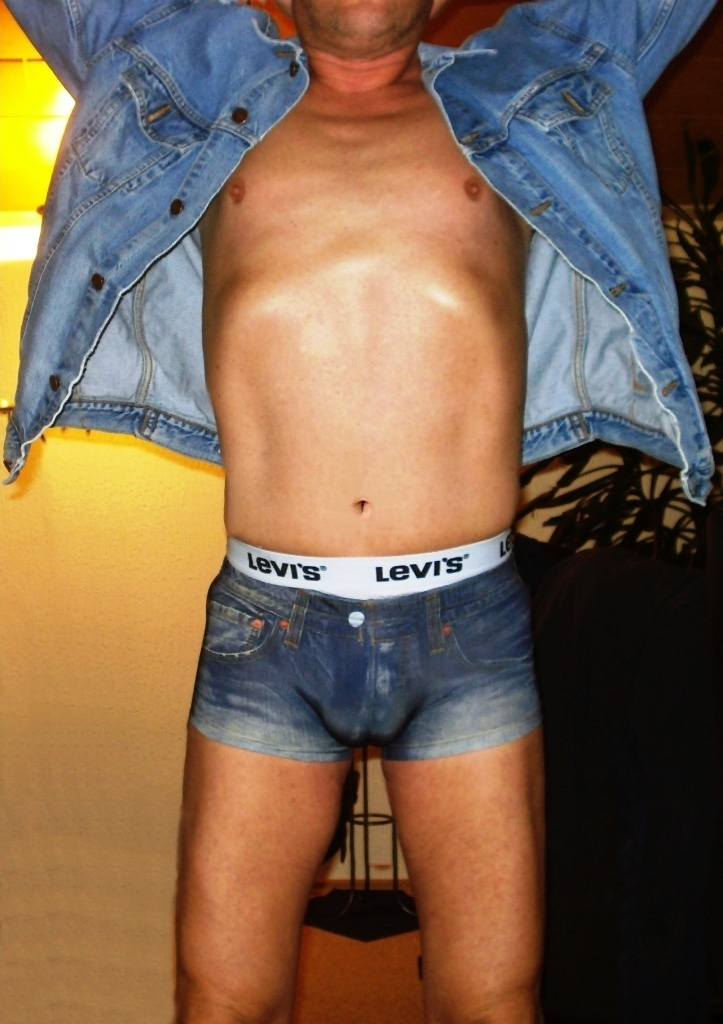face: (289, 0, 430, 55)
